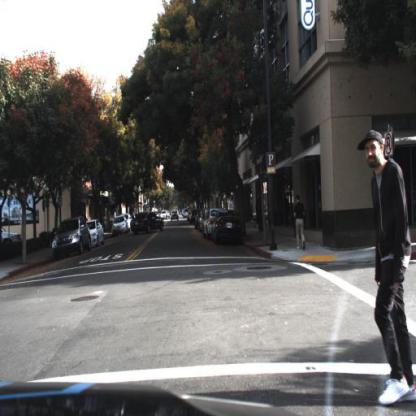car: (53, 213, 92, 259), (129, 209, 165, 237), (1, 223, 22, 252), (86, 219, 107, 248), (204, 210, 217, 242), (113, 214, 129, 235), (170, 208, 181, 223)
pedestrian: (356, 126, 416, 409), (357, 129, 416, 408), (292, 193, 310, 257), (255, 195, 268, 239), (255, 194, 266, 233)
